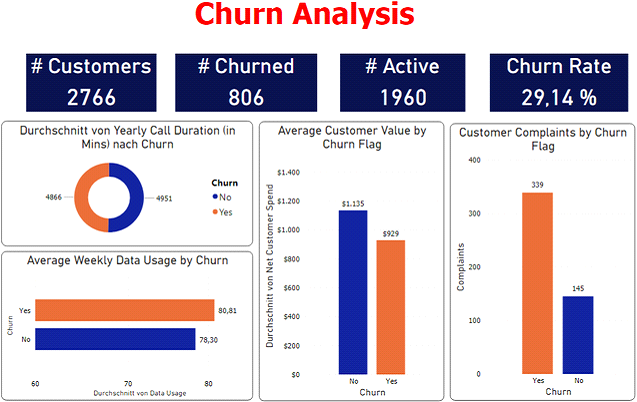

The page's visual inventory and layout, read from the dashboard file:
{"tool":"powerbi","page":{"name":"Usage, Complaints & Customer Value","canvas":[1280,820],"ordinal":0},"visuals":[{"type":"clusteredBarChart","title":"Average Weekly Data Usage by Churn","fields":{"Y":["Avg(Assignment Dataset.Data Usage)"],"Category":["Assignment Dataset.Churn"]},"box":[11.5,519.3,499.6,297.4],"z":0},{"type":"donutChart","fields":{"Category":["Assignment Dataset.Churn"],"Y":["Avg(Assignment Dataset.Yearly Call Duration (in Mins))"]},"box":[11.5,259.6,499.6,249.8],"z":1},{"type":"columnChart","title":"Average Customer Value by Churn Flag","fields":{"Category":["Assignment Dataset.Churn"],"Y":["Avg(Assignment Dataset.Net Customer Spend)"]},"box":[524.2,261.3,368.1,557.1],"z":2},{"type":"lineStackedColumnComboChart","title":"Customer Complaints by Churn Flag","fields":{"Category":["Assignment Dataset.Churn"],"Y":["Sum(Assignment Dataset.Complaints)"]},"box":[903.8,264.6,368.1,552.1],"z":3},{"type":"card","title":"# Customers","fields":{"Values":["CountNonNull(Assignment Dataset.Churn)"]},"box":[60.5,126,258.7,115.9],"z":4},{"type":"card","title":"# Churned","fields":{"Values":["Assignment Dataset.#Churned"]},"box":[357.8,126,282.2,115.9],"z":5},{"type":"card","title":"# Active","fields":{"Values":["Assignment Dataset.#Active"]},"box":[685.4,126,248.6,115.9],"z":6},{"type":"card","title":"Churn Rate","fields":{"Values":["Assignment Dataset.Churn Rate"]},"box":[982.7,126,275.5,115.9],"z":7},{"type":"textbox","box":[204.9,3.4,954.1,100.8],"z":8}]}

Visuals, with their boxes in screenshot pixels (x1, y1, x2, y2), scaled from the page's 1280x820 canvas onto the 637x402 screenshot:
"Average Weekly Data Usage by Churn" clusteredBarChart: 6, 255, 254, 400
donutChart - Assignment Dataset.Churn x Avg(Assignment Dataset.Yearly Call Duration (in Mins)): 6, 127, 254, 250
"Average Customer Value by Churn Flag" columnChart: 261, 128, 444, 401
"Customer Complaints by Churn Flag" lineStackedColumnComboChart: 450, 130, 633, 400
"# Customers" card: 30, 62, 159, 119
"# Churned" card: 178, 62, 318, 119
"# Active" card: 341, 62, 465, 119
"Churn Rate" card: 489, 62, 626, 119
textbox: 102, 2, 577, 51
